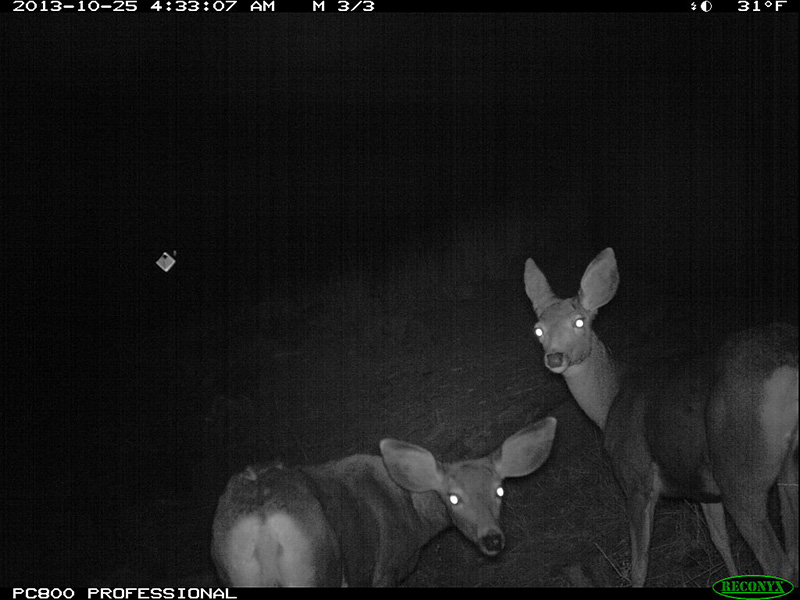cervo: (518, 248, 800, 576), (208, 409, 573, 600)
